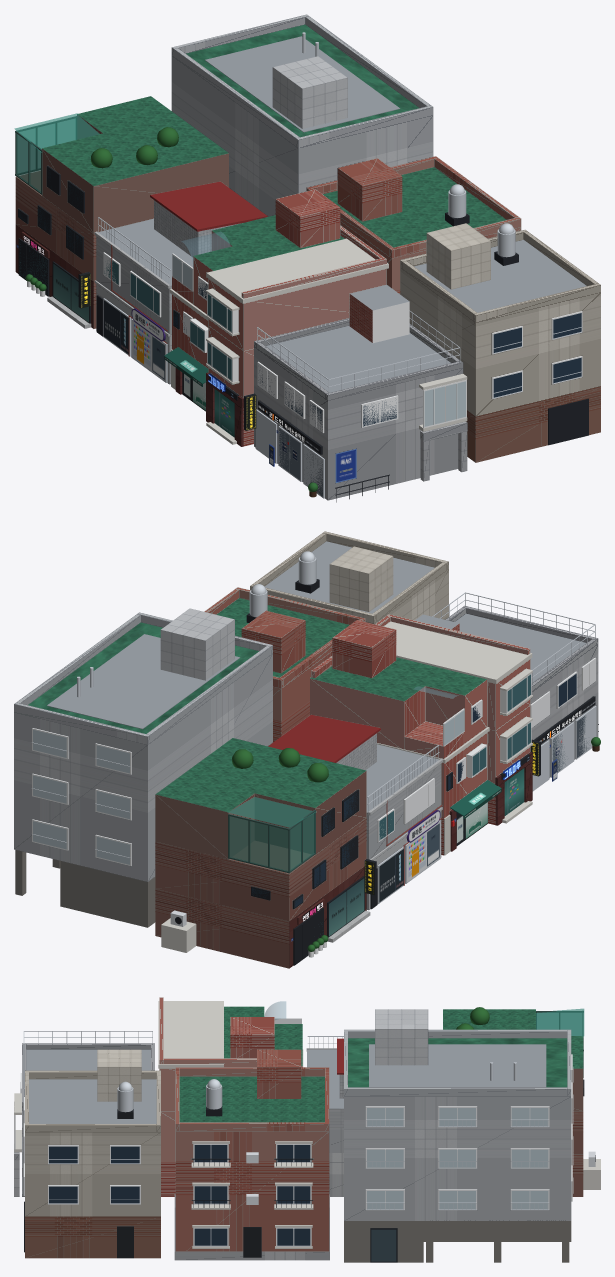
Rendered from place_금북주택가1.glb.
3 views of the same model, one above another, from view 1: azimuth 30°, elevation 25°; view 2: azimuth 150°, elevation 25°; view 3: azimuth 270°, elevation 25° (orthographic). The views are drawn at different scales.
Parts seen in each view (by area): view 1: B1_Readin_2F_Mass, B5_SE_KoreanHouse_3F, B4_3F_Brick_NotchedForConservatory, B7_NE_KoreanVilla_4F, B2_3F_RedBrick_GreenRoof, b5_SE_KoreanVilla_3_1, B6_EastRedBrickHouse_3F, Merged_B7_Parapet, Merged_B2_Cornice, Merged_B7_RoofGrayCenter, B3_2F_VerticalMosaicTile, b7_NE_KoreanVilla_3_9 (+41 smaller); view 2: B7_NE_KoreanVilla_4F, B4_3F_Brick_NotchedForConservatory, B2_3F_RedBrick_GreenRoof, B4_2F_WirecutBrick, b7_NE_KoreanVilla_3_9, Merged_B7_RoofGrayCenter, B4_1F_MaroonGraniteBase, B1_Readin_2F_Mass, Merged_B7_WhiteFrames, Merged_B7_Parapet, b4_YeonjeongHairBank_8_1, Merged_B2_Cornice (+40 smaller); view 3: B7_NE_KoreanVilla_4F, B6_EastRedBrickHouse_3F, B5_SE_KoreanHouse_3F, Merged_B7_WhiteFrames, b7_NE_KoreanVilla_3_9, b5_SE_KoreanVilla_3_1, Merged_B7_RoofGrayCenter, Merged_B7_Glass, Merged_B7_Parapet, Merged_B2_Cornice, Merged_B6_Glass, Merged_B6_Parapet (+33 smaller).
Part boxes in pixels (x1,y1,x2,y2): B1_Readin_2F_Mass: (254,325,463,500); B5_SE_KoreanHouse_3F: (400,239,600,416); B4_3F_Brick_NotchedForConservatory: (42,96,228,233); B7_NE_KoreanVilla_4F: (171,56,433,216); B2_3F_RedBrick_GreenRoof: (193,215,386,350); b5_SE_KoreanVilla_3_1: (426,223,600,462); B6_EastRedBrickHouse_3F: (323,167,521,294); Merged_B7_Parapet: (171,14,433,148); Merged_B2_Cornice: (169,238,388,320); Merged_B7_RoofGrayCenter: (205,36,400,132); B3_2F_VerticalMosaicTile: (96,218,193,334); b7_NE_KoreanVilla_3_9: (272,56,347,128); B7_NE_KoreanVilla_4F: (14,653,272,881); B4_3F_Brick_NotchedForConservatory: (155,738,366,859); B2_3F_RedBrick_GreenRoof: (310,657,530,749); B4_2F_WirecutBrick: (155,818,366,921); b7_NE_KoreanVilla_3_9: (60,608,234,927); Merged_B7_RoofGrayCenter: (47,634,240,729); B4_1F_MaroonGraniteBase: (155,866,366,968); B1_Readin_2F_Mass: (455,613,598,777); Merged_B7_WhiteFrames: (32,728,131,866); Merged_B7_Parapet: (14,612,272,744); b4_YeonjeongHairBank_8_1: (227,797,316,871); Merged_B2_Cornice: (377,621,532,763); B7_NE_KoreanVilla_4F: (344,1096,571,1220); B6_EastRedBrickHouse_3F: (175,1076,329,1251); B5_SE_KoreanHouse_3F: (25,1079,160,1216); Merged_B7_WhiteFrames: (365,1054,572,1210); b7_NE_KoreanVilla_3_9: (344,1009,571,1262); b5_SE_KoreanVilla_3_1: (25,1049,160,1258); Merged_B7_RoofGrayCenter: (369,1044,546,1087); Merged_B7_Glass: (367,1108,547,1261); Merged_B7_Parapet: (344,1029,571,1096); Merged_B2_Cornice: (158,1001,303,1068); Merged_B6_Glass: (194,1145,310,1245); Merged_B6_Parapet: (175,1067,329,1131).
Bounding box in the file's own units: 21.27 × 15.2 × 39.75.
57 materials, 36 textured.
